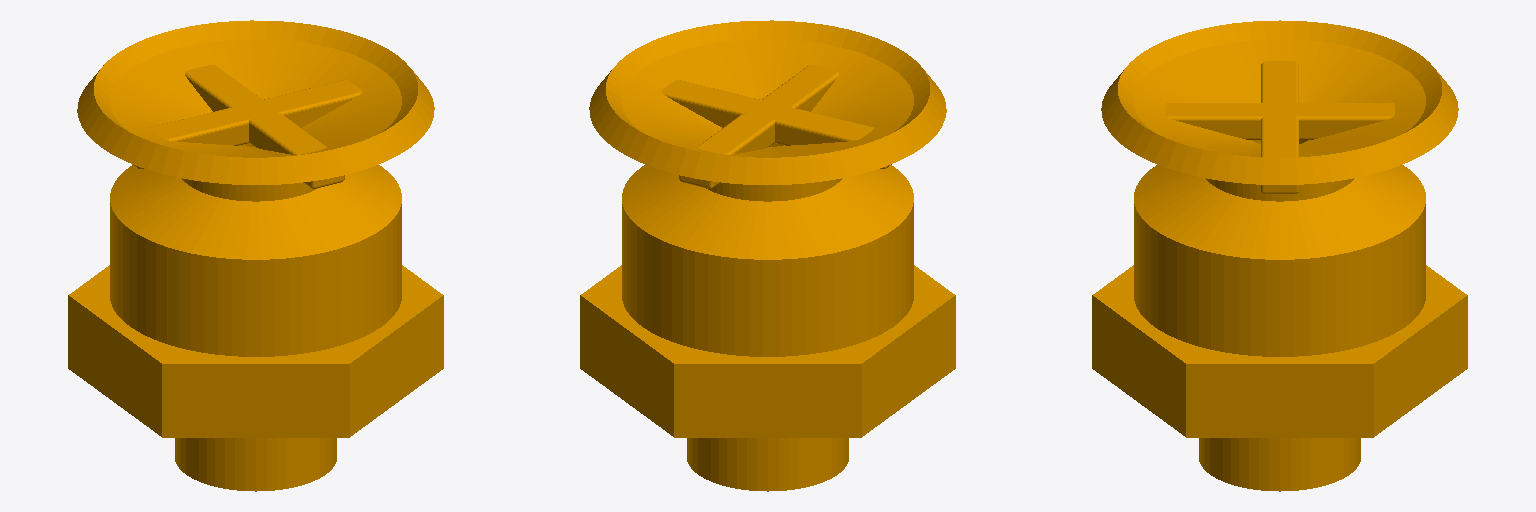
URDF robot description (smc_zp3_t10umn_a5):
<?xml version="1.0"?>
<robot name="smc_zp3_t10umn_a5">
<link name="mount"><visual ><geometry ><mesh filename="../meshes/mount.obj"/></geometry></visual><collision ><origin xyz="0 0 0.00125" rpy="0 0 0"/><geometry ><cylinder radius="0.00578" length="0.0025"/></geometry></collision><collision ><origin xyz="0 0 0.006" rpy="0 0 0"/><geometry ><cylinder radius="0.0055" length="0.007"/></geometry></collision></link>
<link name="tcp"></link>
<joint name="tcp_joint" type="fixed"><parent link="mount"/><child link="tcp"/><origin xyz="0 0 0.0095" rpy="0 0 0"/></joint>
</robot>

--- Render facts (derived) ---
The picture shows the robot from 3 angles, left to right: view 1: azimuth 30°, elevation 25°; view 2: azimuth 150°, elevation 25°; view 3: azimuth 270°, elevation 25°; orthographic projection.
Robot: smc_zp3_t10umn_a5 — 2 links, 1 joints (1 fixed); root link mount; default pose: all joints at 0.
Visible links, largest first — view 1: mount; view 2: mount; view 3: mount.
Boxes of the visible links, left/top/right/bottom form: mount: left=68, top=20, right=443, bottom=491; mount: left=580, top=20, right=955, bottom=491; mount: left=1092, top=20, right=1467, bottom=491.
Bounding box of the posed robot: 0.011 × 0.0115 × 0.0125 m (x, y, z).
Meshes: 1 distinct files referenced, 1 mesh visuals loaded (1 OBJ).
